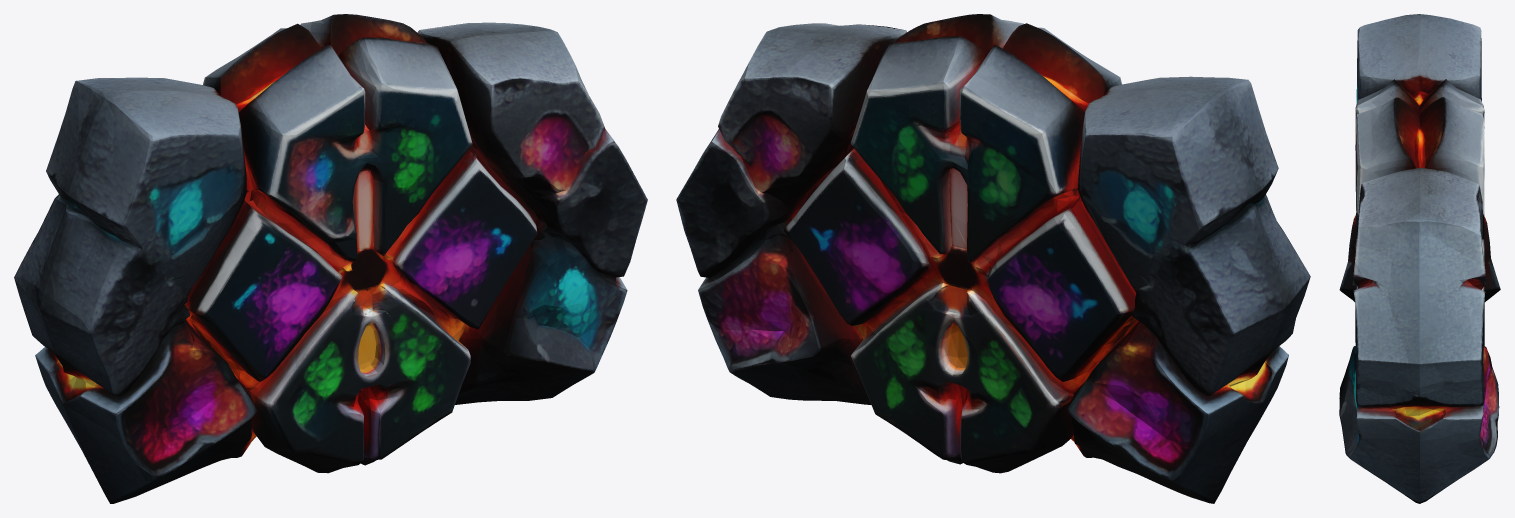
The model's file is stone-carved-puzzle-futuristic.jpeg.glb.
The picture shows the model from 3 angles, left to right: view 1: azimuth 30°, elevation 25°; view 2: azimuth 150°, elevation 25°; view 3: azimuth 270°, elevation 25°; orthographic projection. The views are drawn at different scales.
Visible parts, largest first — view 1: world; view 2: world; view 3: world.
Boxes of the visible parts, x1=… form: world: x1=14, y1=14, x2=647, y2=503; world: x1=676, y1=14, x2=1310, y2=503; world: x1=1339, y1=14, x2=1500, y2=503.
Size of the model in its own units: 1 by 0.7034 by 0.3068.
Materials: 1 (1 with a texture image).
